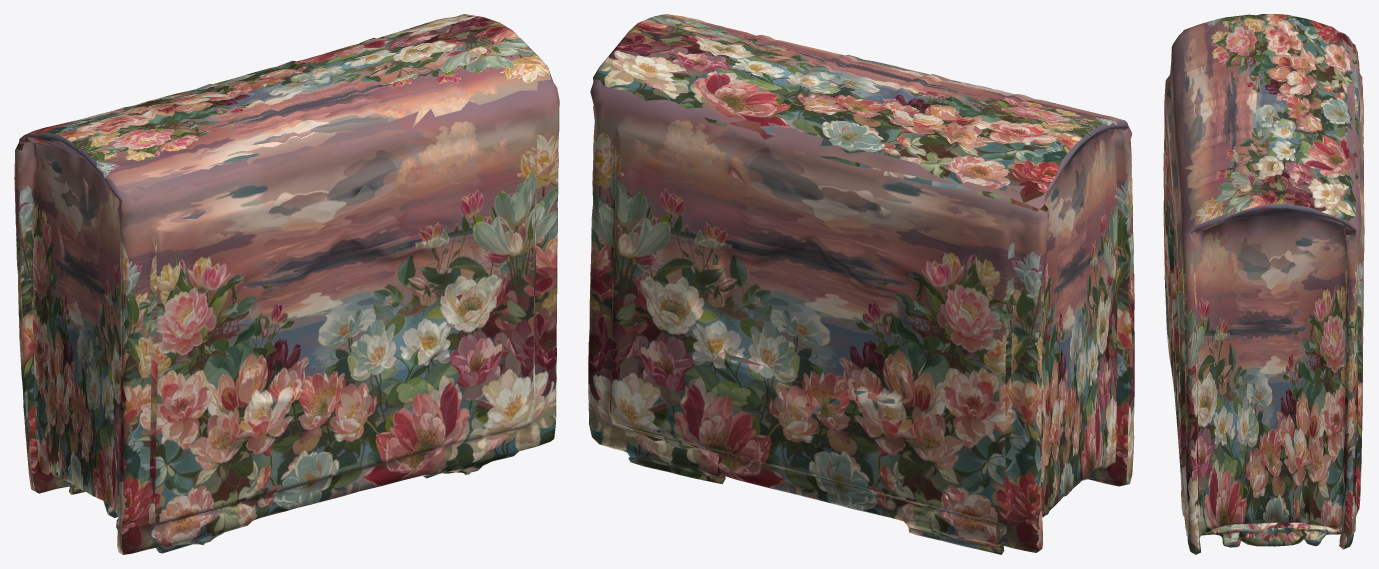
Rendered from si_nmaahc_photograph-album-owned-by-emily-howland.glb.
3 renders of one model, left to right at view 1: azimuth 30°, elevation 25°; view 2: azimuth 150°, elevation 25°; view 3: azimuth 270°, elevation 25°, orthographic. The views are drawn at different scales.
Parts seen in each view (by area): view 1: A; view 2: A; view 3: A.
Boxes of the visible parts, box(x1,y1,x2,y2) form: A: box(14, 14, 559, 554); A: box(588, 14, 1134, 554); A: box(1163, 14, 1364, 554).
Bounding box in the file's own units: 2 × 1.73 × 0.8376.
1 material, 1 textured.
